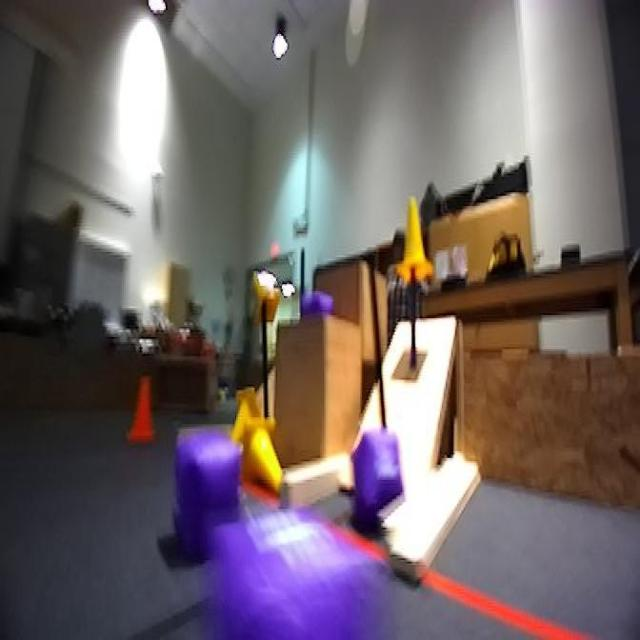frc_cone: (244, 417, 282, 487), (398, 197, 430, 274), (250, 272, 281, 330), (233, 388, 267, 422)
frc_cube: (196, 504, 411, 640), (181, 426, 258, 560), (353, 431, 403, 512), (316, 300, 334, 320)
